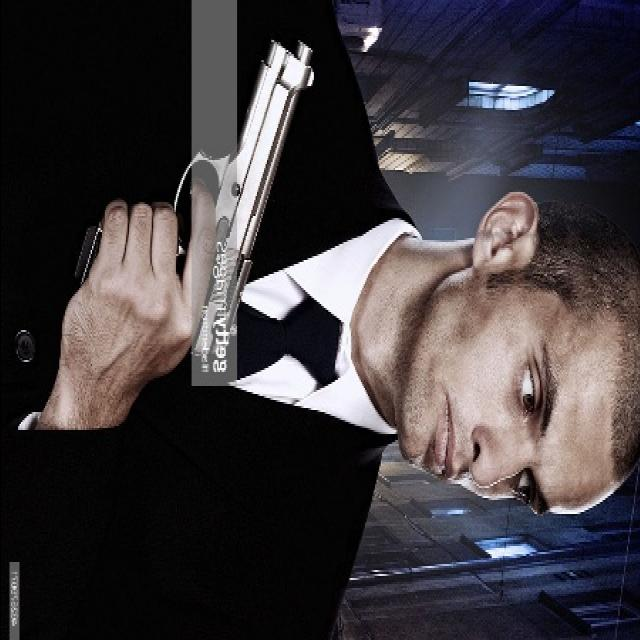handgun: (76, 47, 320, 375)
